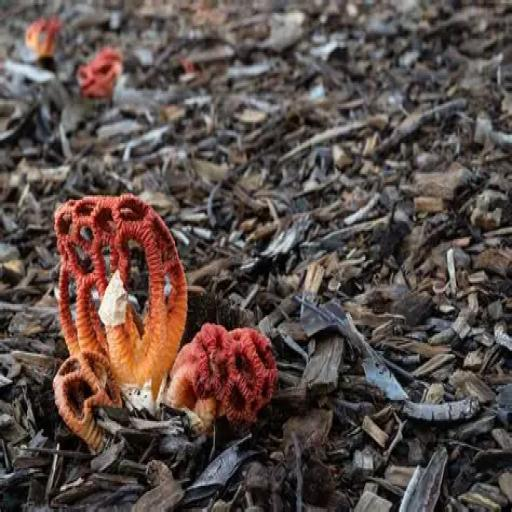Red Cage Fungus: (49, 194, 187, 456), (167, 325, 280, 444), (78, 48, 122, 103), (24, 17, 65, 72)
